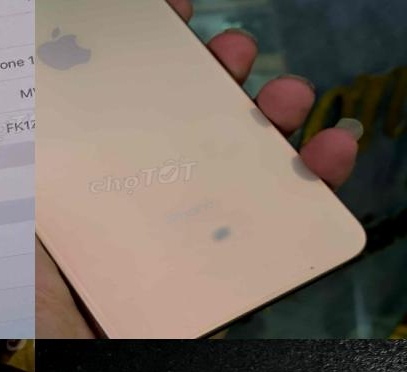scratch: (300, 251, 326, 281)
